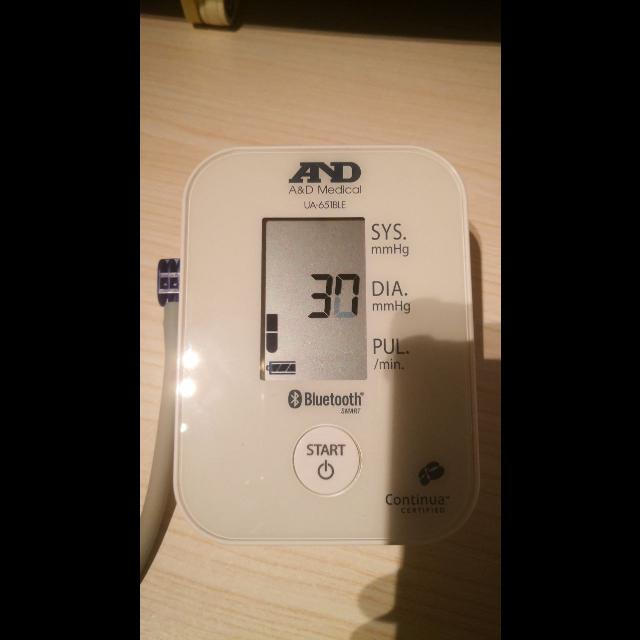Blood-Pressure-Monitor: (172, 145, 482, 545)
